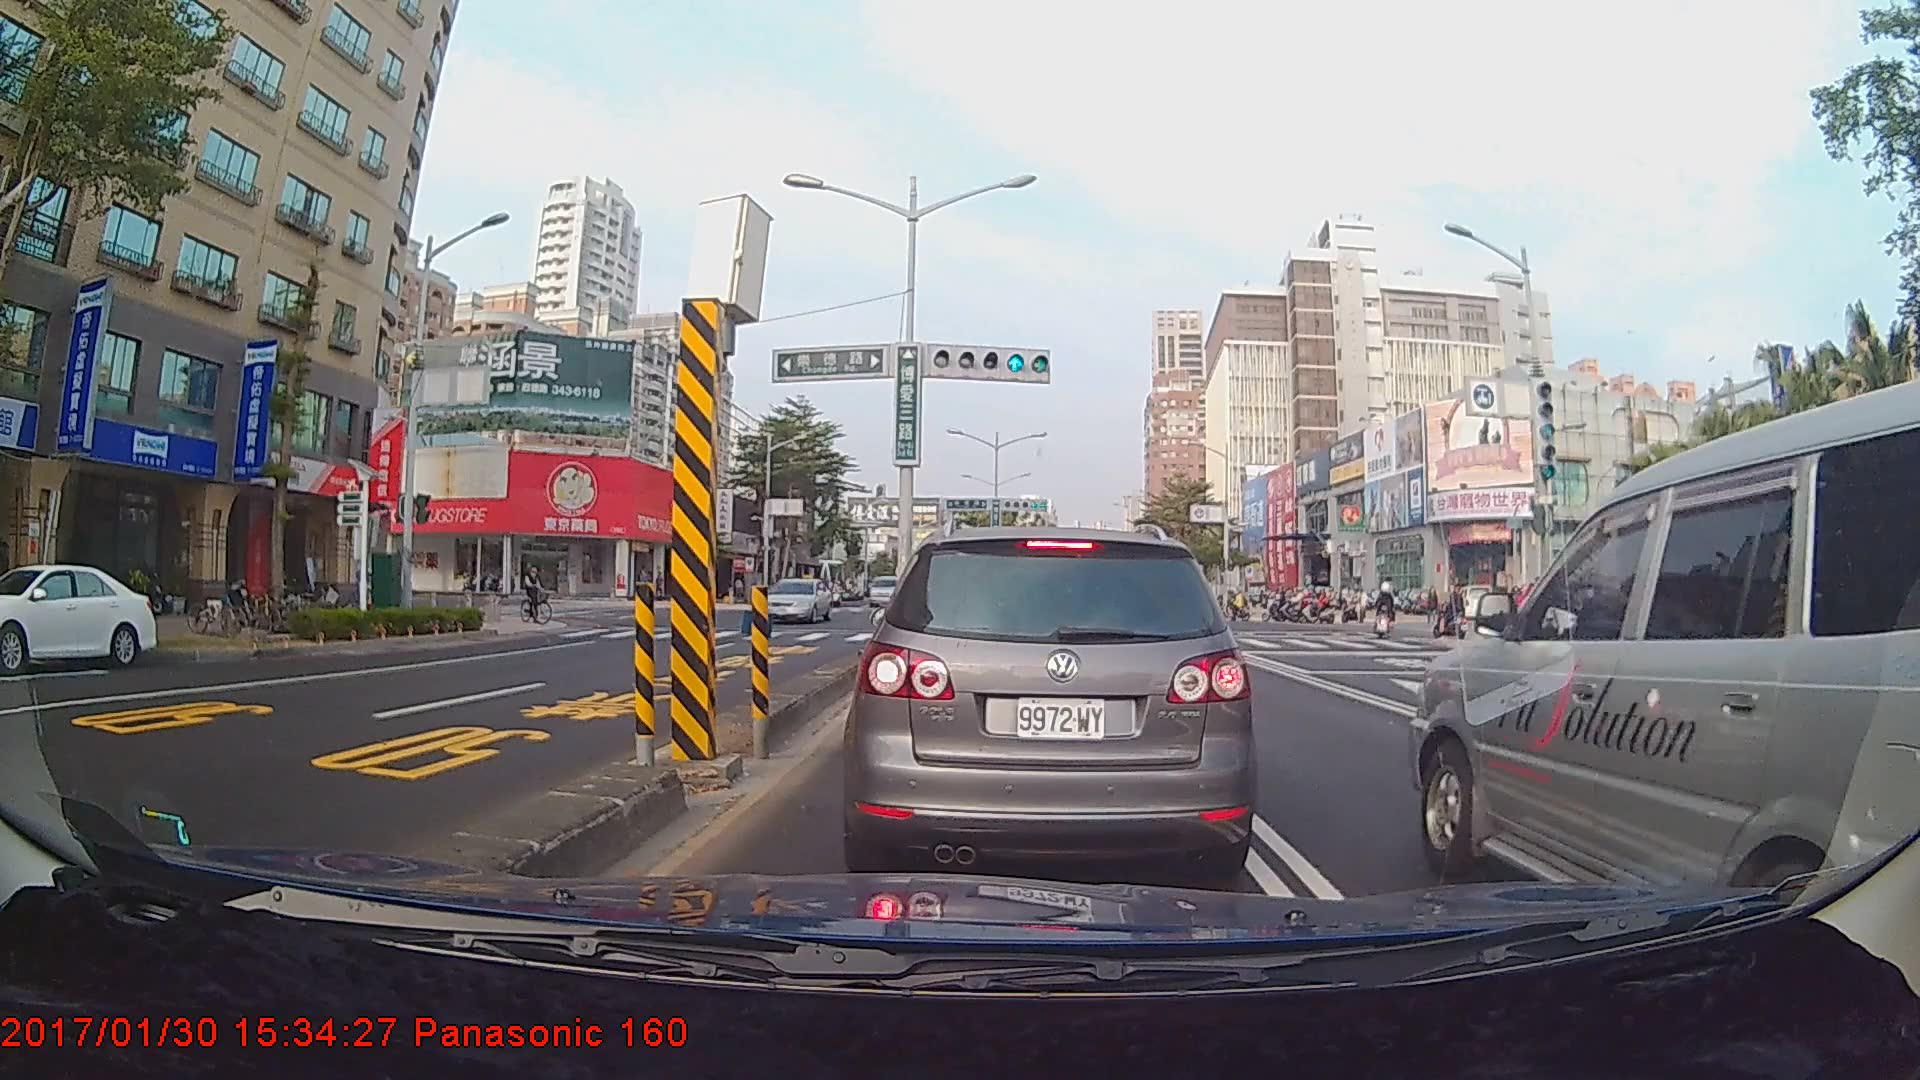rider: (518, 559, 561, 629), (1436, 582, 1473, 646), (1373, 584, 1398, 643), (1581, 582, 1606, 621)
vehicle: (1406, 373, 1920, 883), (854, 522, 1250, 876), (0, 561, 157, 671), (761, 578, 829, 625), (866, 574, 903, 605)
